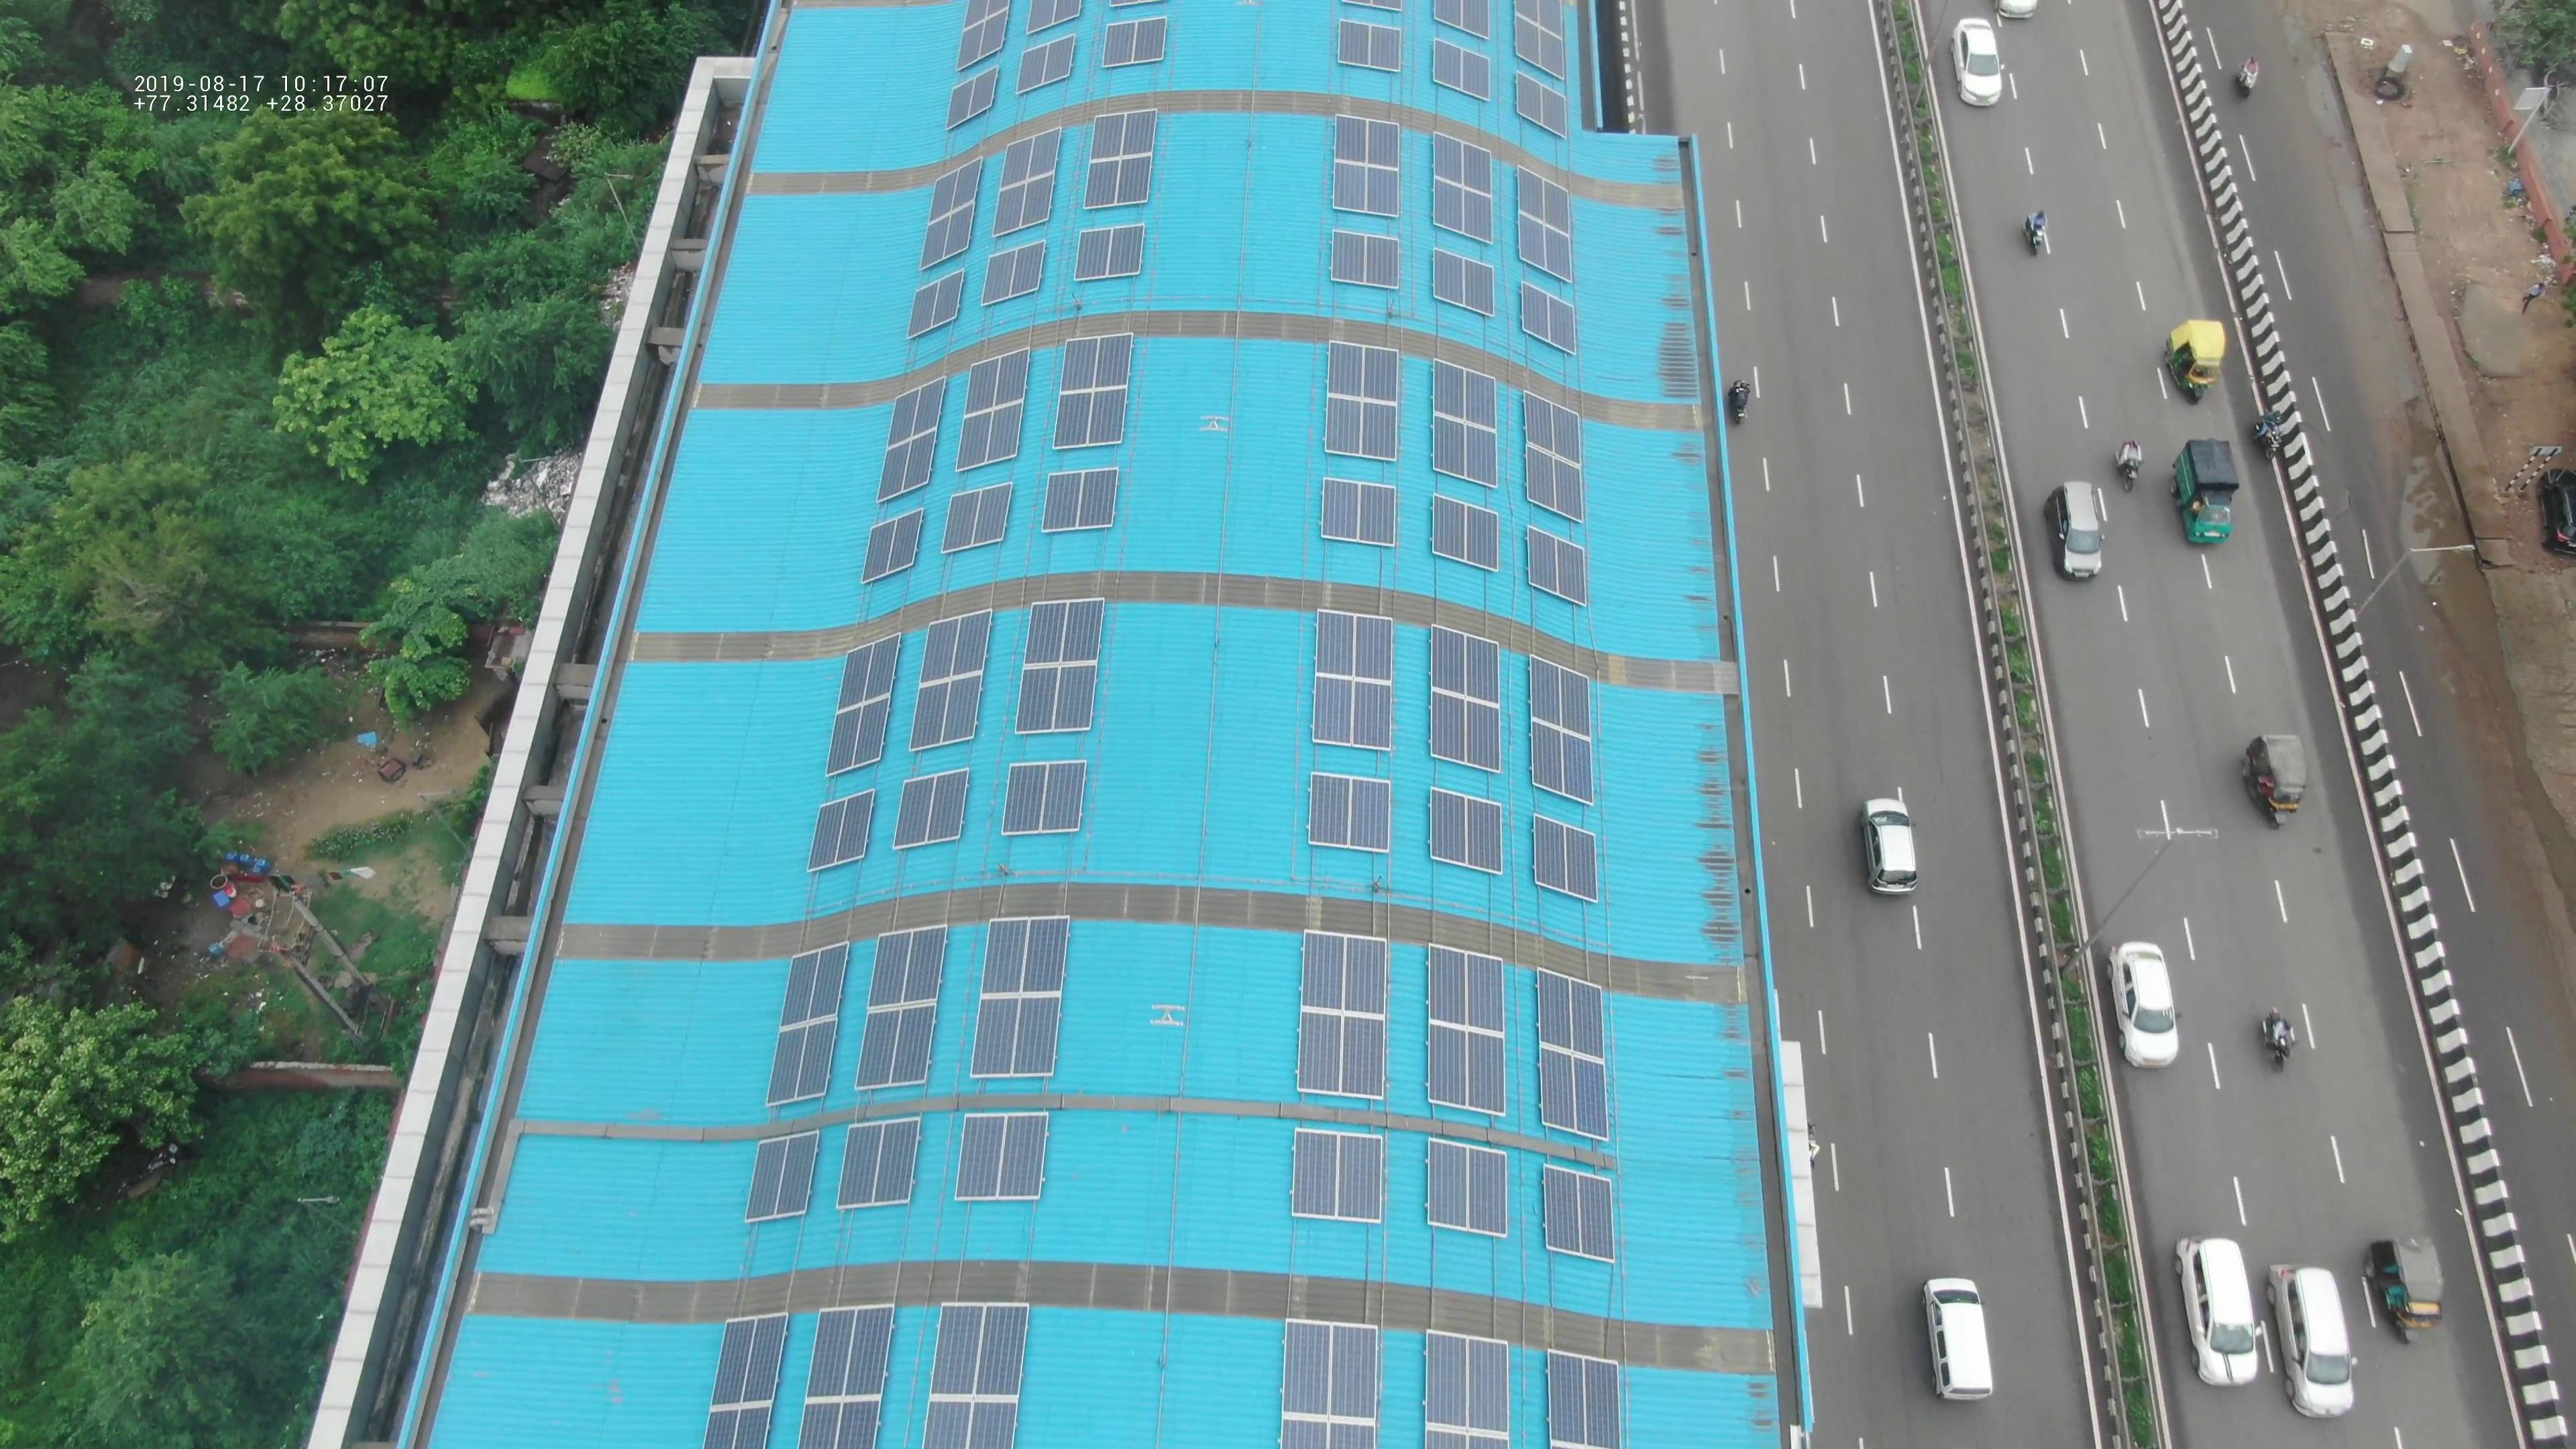Waterlogging: (2373, 441, 2488, 642)
